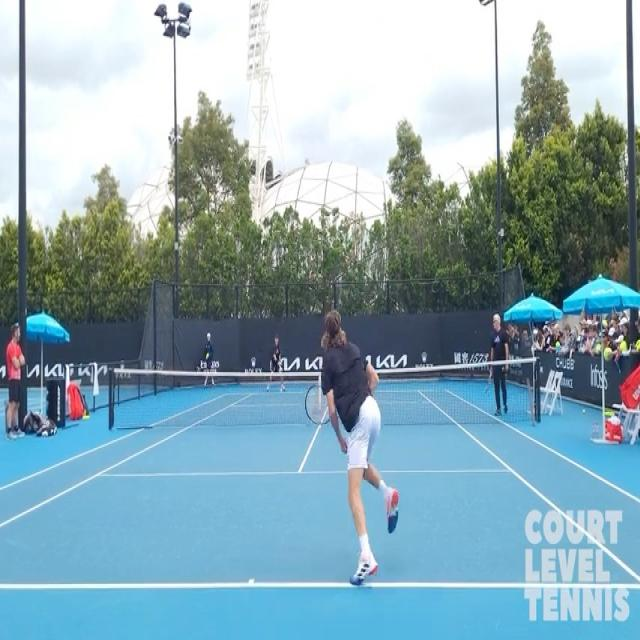serve_followthrough: (306, 282, 405, 590)
